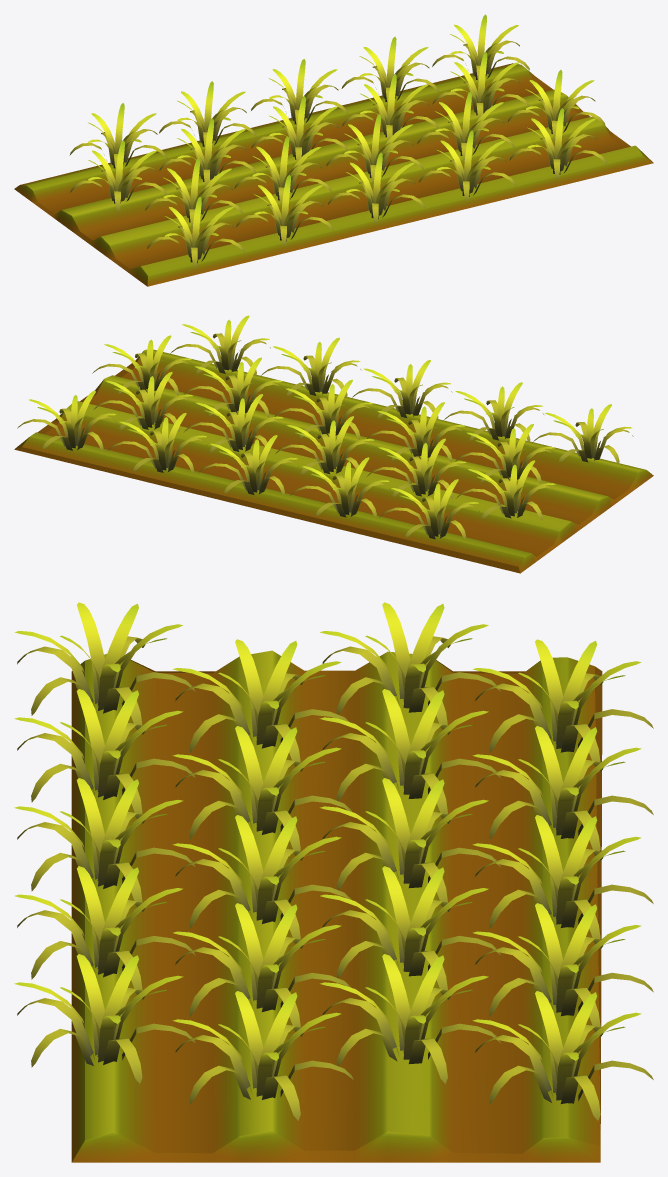
Rendered from Farm_field_2.fbx.
3 views of the same model, one above another, from view 1: azimuth 30°, elevation 25°; view 2: azimuth 150°, elevation 25°; view 3: azimuth 270°, elevation 25° (orthographic). The views are drawn at different scales.
Parts seen in each view (by area): view 1: pasted__Farm_Field, group13; view 2: pasted__Farm_Field, group13; view 3: pasted__Farm_Field, group13.
Boxes of the visible parts, x1,y1,x2,y2 form: pasted__Farm_Field: (14,63,653,286); group13: (69,14,606,268); pasted__Farm_Field: (14,349,653,573); group13: (17,315,633,539); pasted__Farm_Field: (71,650,602,1162); group13: (14,602,653,1120).
Bounding box in the file's own units: 31.61 × 3.22 × 17.4.
Materials: 21 (21 with a texture image).
